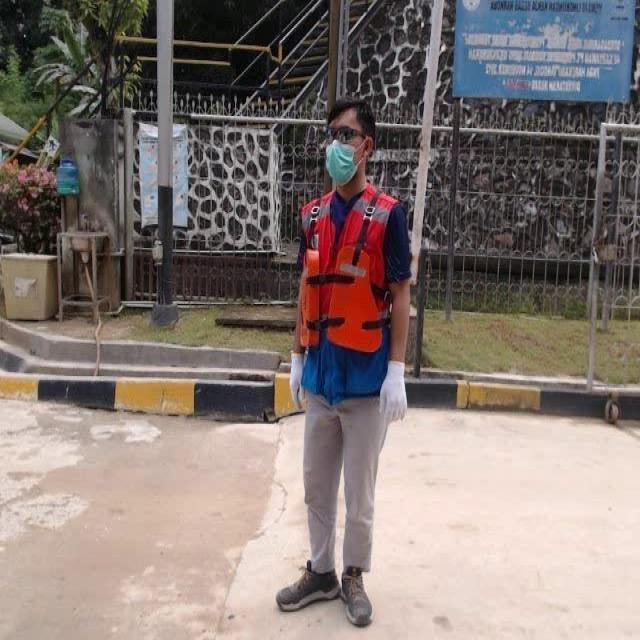gloves: (372, 363, 411, 428), (281, 352, 311, 414)
safety_vest: (303, 200, 392, 354)
